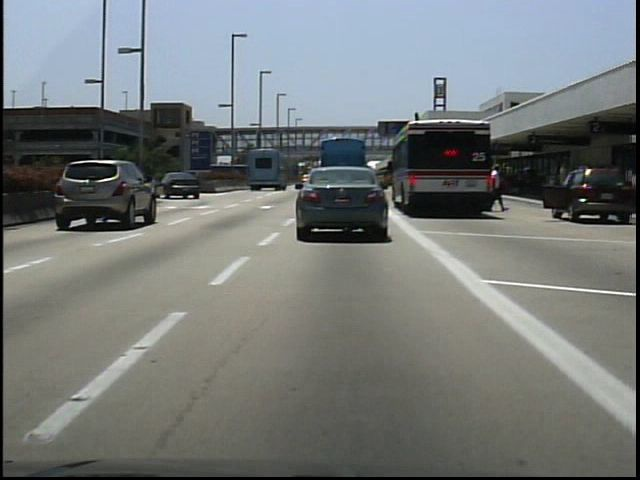person: (487, 158, 509, 220)
